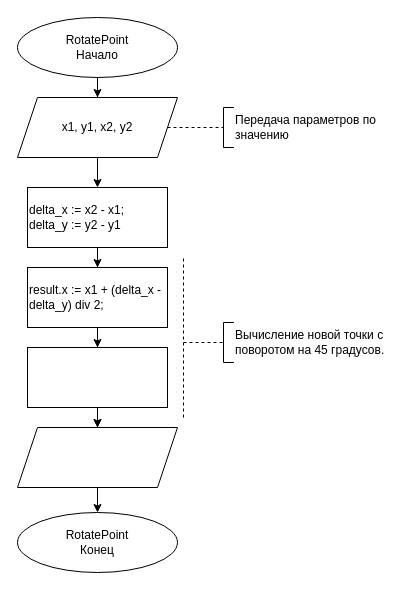
Some shapes in this 415 by 590 pixel diagram are drawn without their labels. Here are the shapes that lost their labels. From the top down, the box of each, then its label:
(26, 346, 168, 408): result.y := y1 + (delta_y + delta_x) div 2;
(16, 426, 178, 488): Вернуть result.x и result.y
